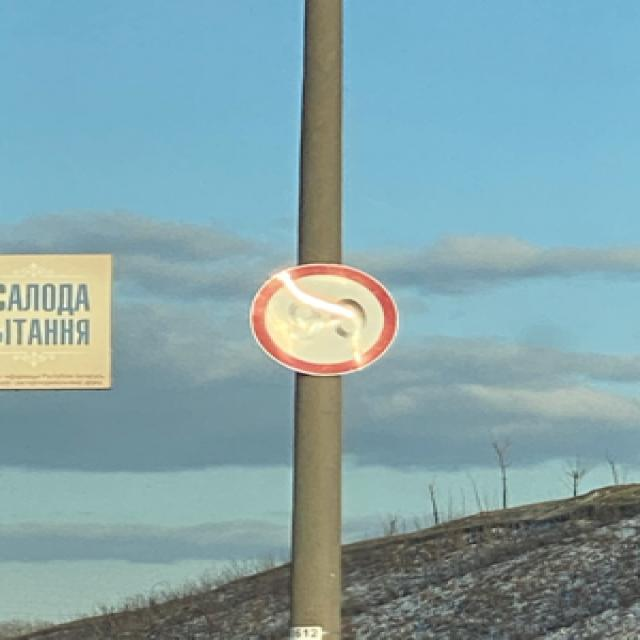speedlimit: (247, 264, 397, 374)
